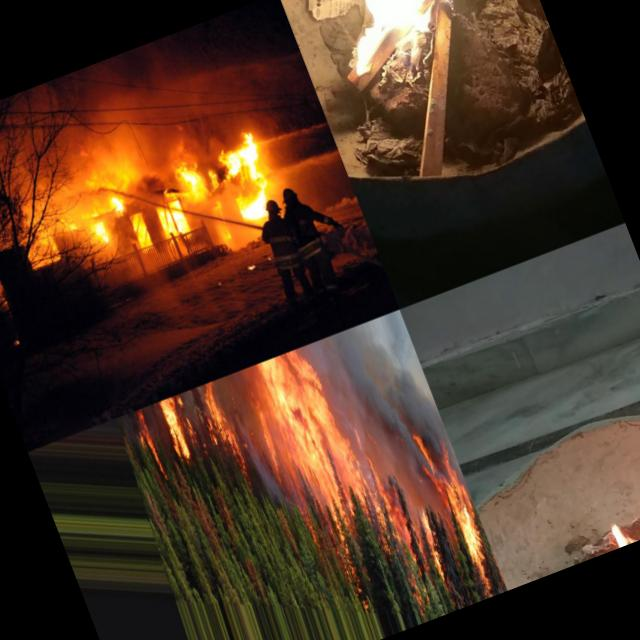fire: (235, 342, 378, 536), (311, 0, 493, 89), (365, 452, 451, 588), (422, 440, 497, 576), (199, 118, 280, 223), (82, 146, 147, 202), (193, 380, 240, 456), (154, 394, 202, 464), (578, 506, 638, 558), (164, 147, 208, 201), (154, 196, 194, 243), (79, 208, 115, 250), (104, 186, 130, 220)
smoke: (326, 310, 448, 465), (230, 406, 284, 509)
